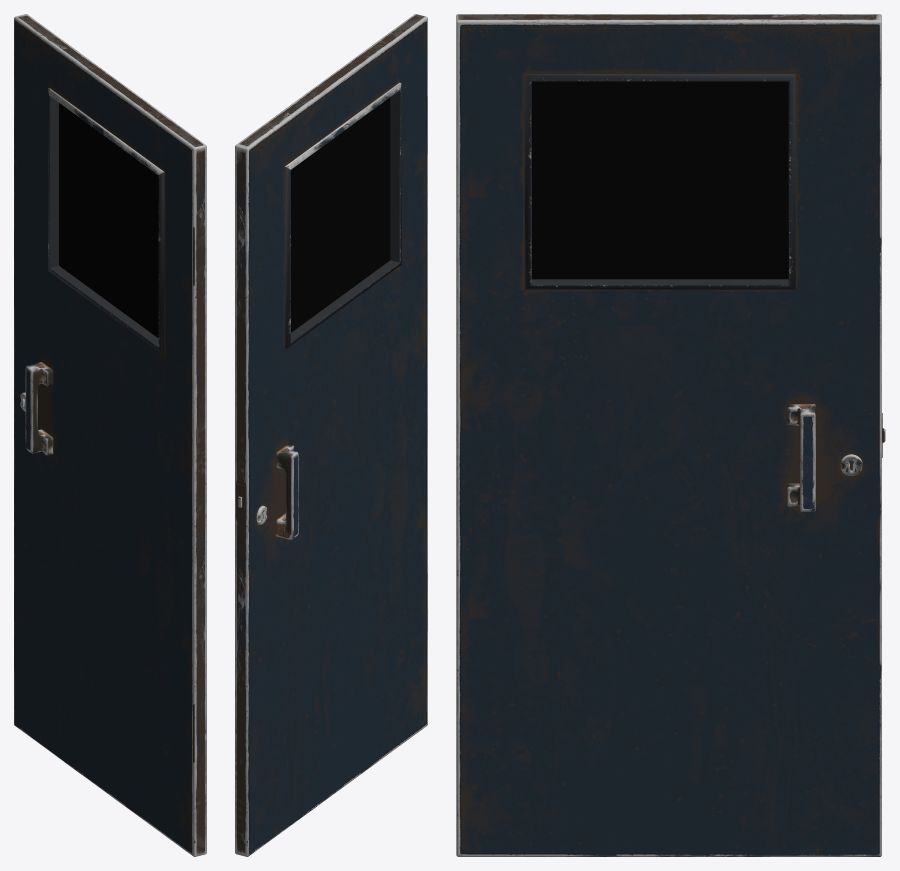
The model's file is double-door-left-opaque.fbx.
3 renders of one model, left to right at view 1: azimuth 30°, elevation 25°; view 2: azimuth 150°, elevation 25°; view 3: azimuth 270°, elevation 25°, orthographic. The views are drawn at different scales.
Parts seen in each view (by area): view 1: R_2_2_02_0.001, R_2_2_glass_0.001, R_2_2_01_0.001; view 2: R_2_2_02_0.001, R_2_2_glass_0.001, R_2_2_01_0.001; view 3: R_2_2_02_0.001, R_2_2_glass_0.001, R_2_2_01_0.001.
Part boxes in pixels (x1,y1,x2,y2): R_2_2_02_0.001: (14,14,206,856); R_2_2_glass_0.001: (59,103,158,338); R_2_2_01_0.001: (20,362,53,455); R_2_2_02_0.001: (235,14,427,856); R_2_2_glass_0.001: (291,97,390,332); R_2_2_01_0.001: (256,444,298,539); R_2_2_02_0.001: (456,14,885,856); R_2_2_glass_0.001: (532,81,788,279); R_2_2_01_0.001: (787,404,862,511).
Size of the model in its own units: 12.98 by 187 by 87.12.
Materials: 3 (2 with a texture image).
